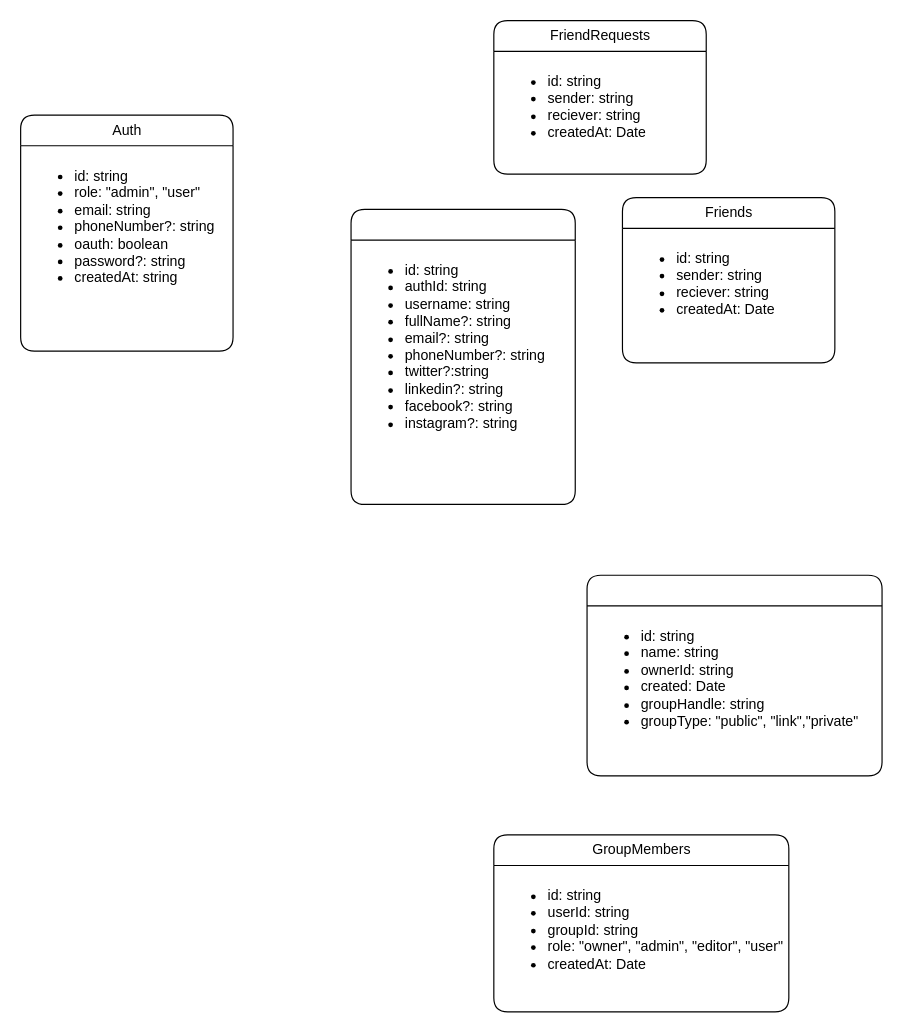
Some shapes in this 903 by 1036 pixel diagram are drawn without their labels. Here are the shapes that lost their labels. From the top down, the box of each, then its label:
(350, 208, 575, 504): Users
(586, 574, 882, 776): Groups
